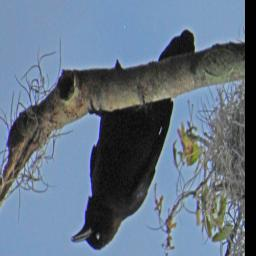Crow: (71, 28, 196, 250)
